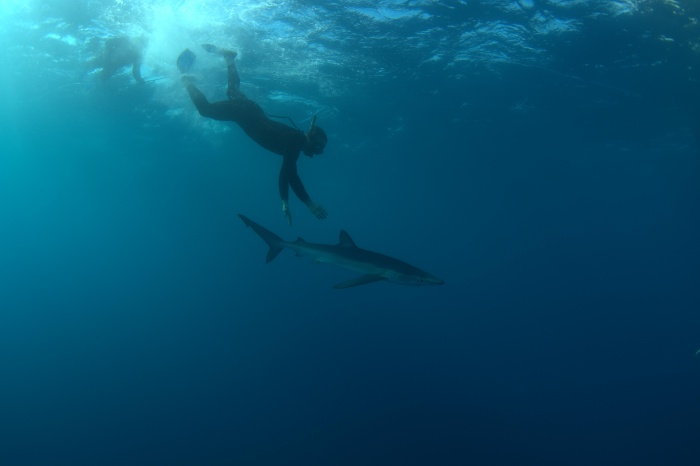Azul: (235, 212, 451, 304)
